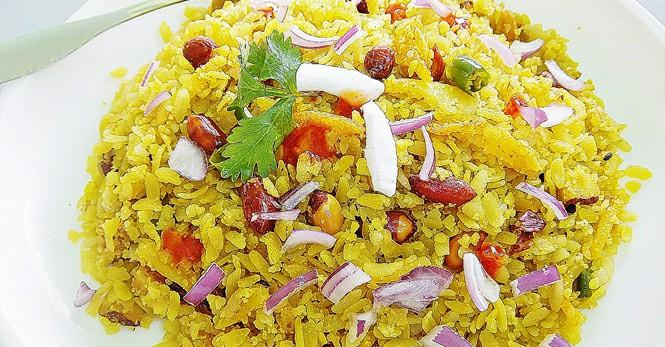Poha: (76, 0, 643, 347)
